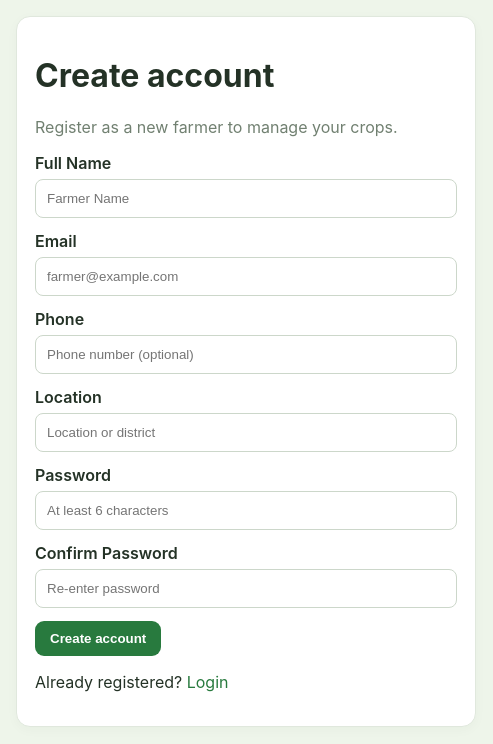
Scenario: Register Component › displays backend error message on failure
Type "Farmer John" into the field with placeholder "Farmer Name" at (246, 198), box [35,179,457,218]
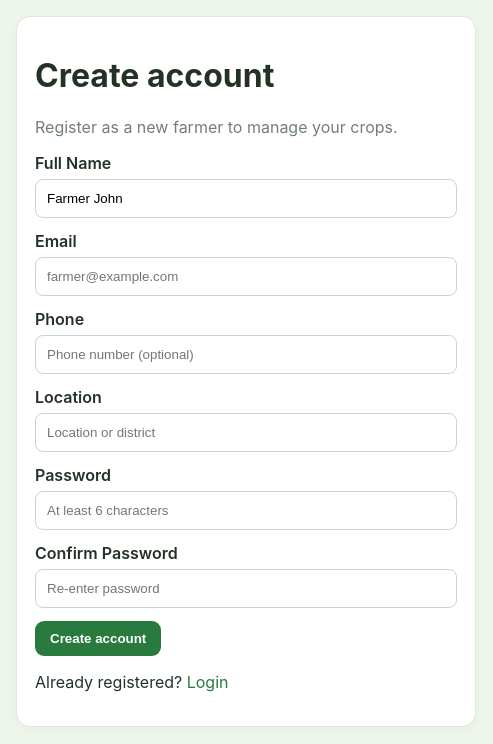
Type "john@example.com" into the field with placeholder "farmer@example.com" at (246, 276), box [35,257,457,296]
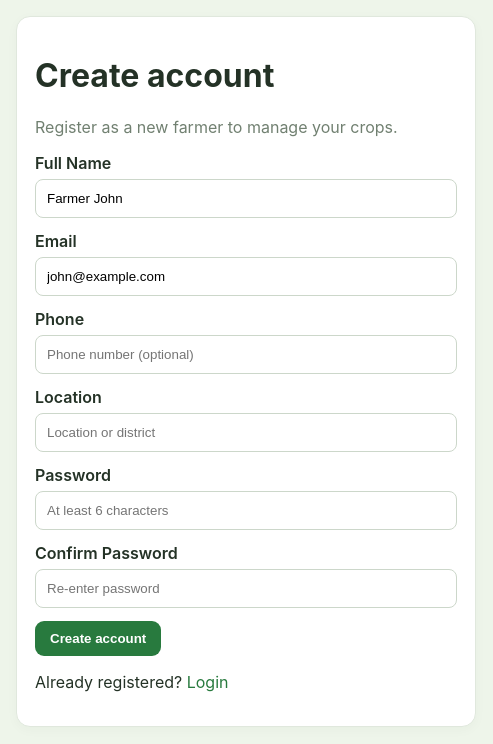
Type "password123" into the password field with placeholder "At least 6 characters" at (246, 510), box [35,491,457,530]
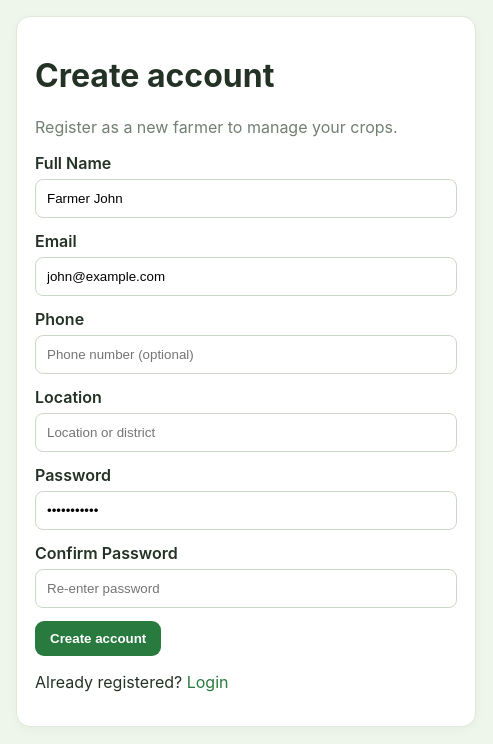
Type "password123" into the password field with placeholder "Re-enter password" at (246, 588), box [35,569,457,608]
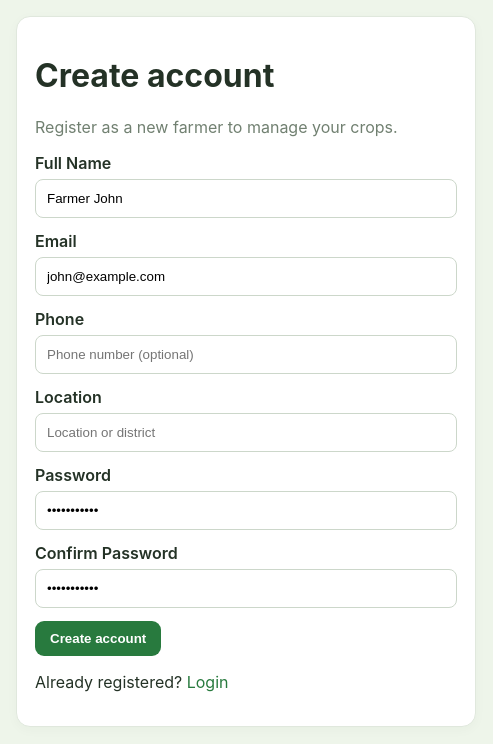
Click the button "Create account" at (98, 638), box [35,621,161,656]
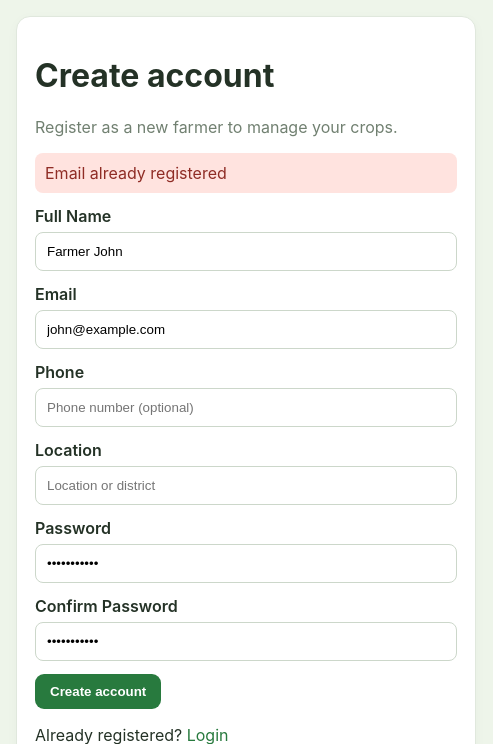
Expected: the text "Email already registered" is shown, [35,153,457,193]
